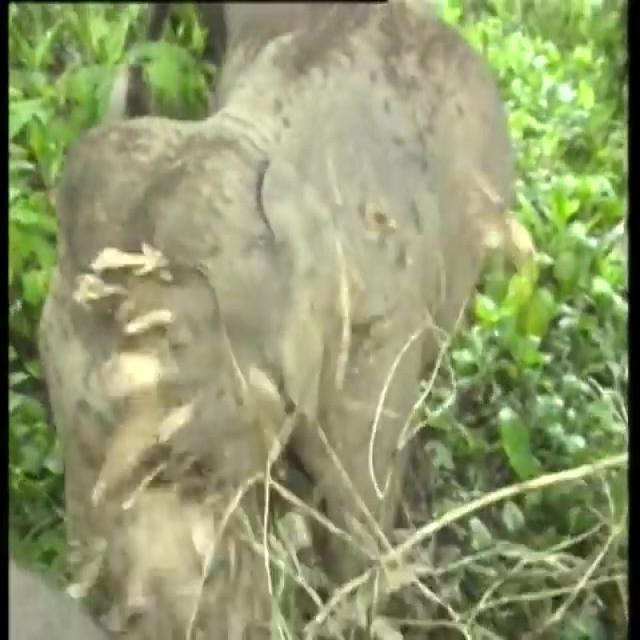Elephant: (71, 56, 464, 590)
